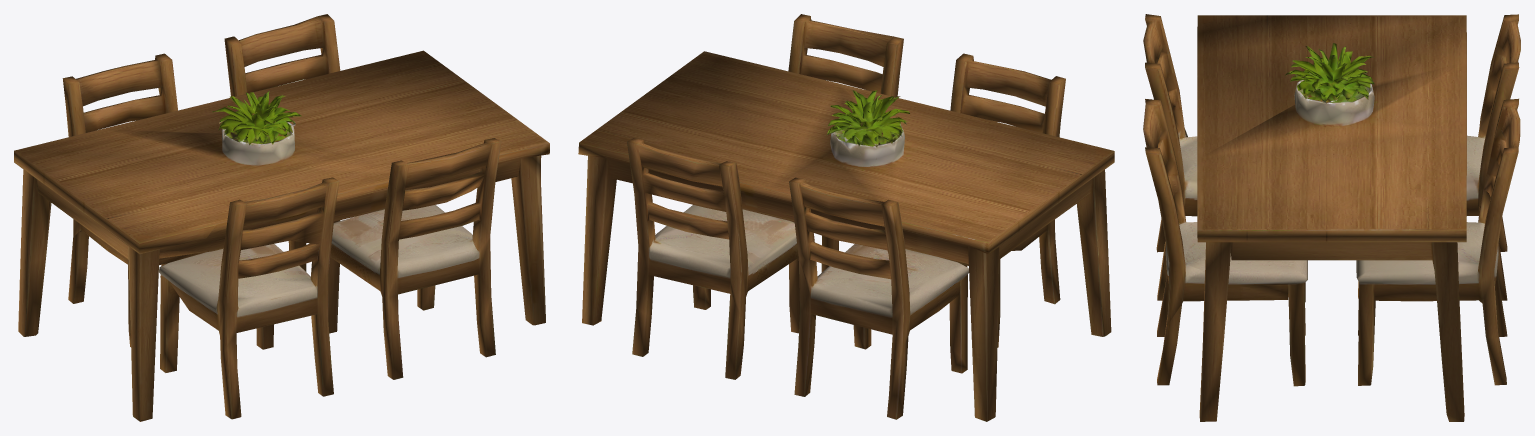
File: Meshy_AI_Wooden_Dining_Table_w_0610183240_texture.fbx
The picture shows the model from 3 angles, left to right: view 1: azimuth 30°, elevation 25°; view 2: azimuth 150°, elevation 25°; view 3: azimuth 270°, elevation 25°; orthographic projection. The views are drawn at different scales.
Parts seen in each view (by area): view 1: Mesh_0; view 2: Mesh_0; view 3: Mesh_0.
Boxes of the visible parts, <box> form: Mesh_0: <box>14,14,549,421</box>; Mesh_0: <box>578,14,1114,421</box>; Mesh_0: <box>1143,14,1520,421</box>.
Bounding box in the file's own units: 191 × 106 × 142.
Materials: 1 (1 with a texture image).
